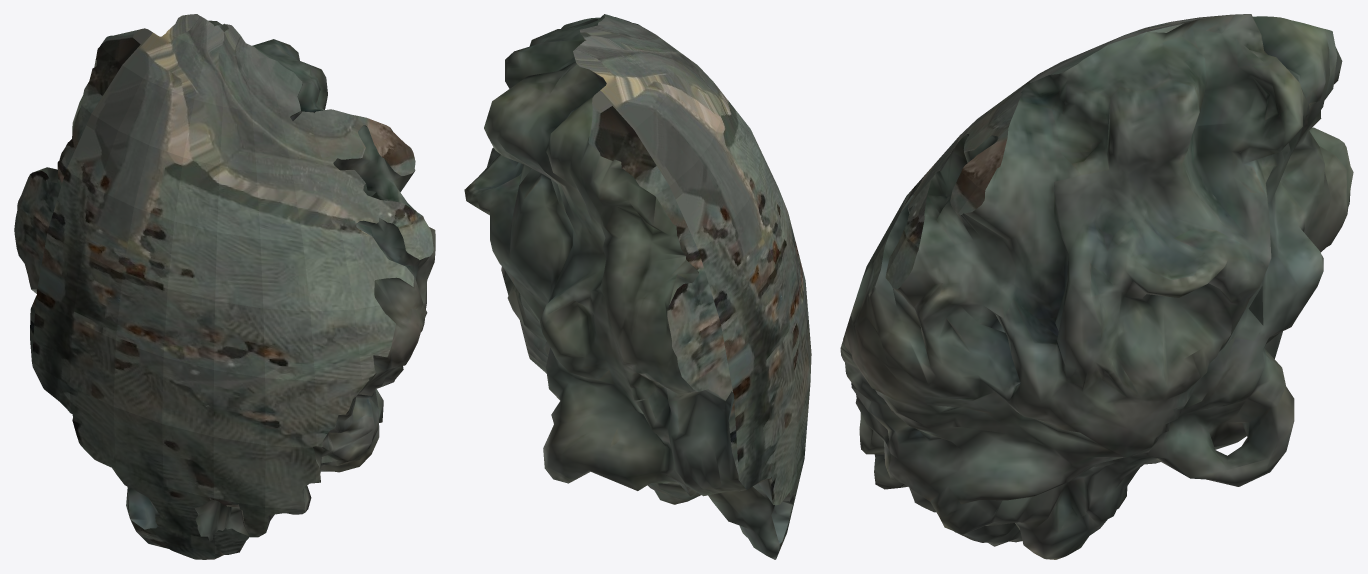
The model's file is christoph_willibald_ritter_von_gluck_2.glb.
The picture shows the model from 3 angles, left to right: view 1: azimuth 30°, elevation 25°; view 2: azimuth 150°, elevation 25°; view 3: azimuth 270°, elevation 25°; orthographic projection. The views are drawn at different scales.
Visible parts, largest first — view 1: Mesh_0.008; view 2: Mesh_0.008; view 3: Mesh_0.008.
Boxes of the visible parts, x1,y1,x2,y2 form: Mesh_0.008: [14, 14, 435, 559]; Mesh_0.008: [464, 14, 811, 559]; Mesh_0.008: [840, 14, 1353, 559].
Bounding box in the file's own units: 0.1787 × 0.2732 × 0.218.
Materials: 1 (1 with a texture image).
